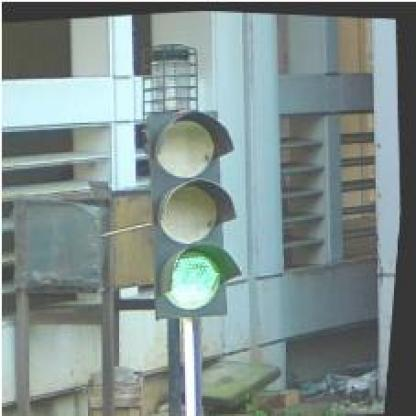green: (137, 102, 255, 318)
